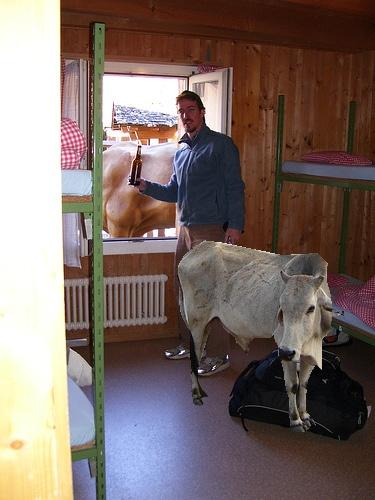tampered: (178, 241, 344, 432)
